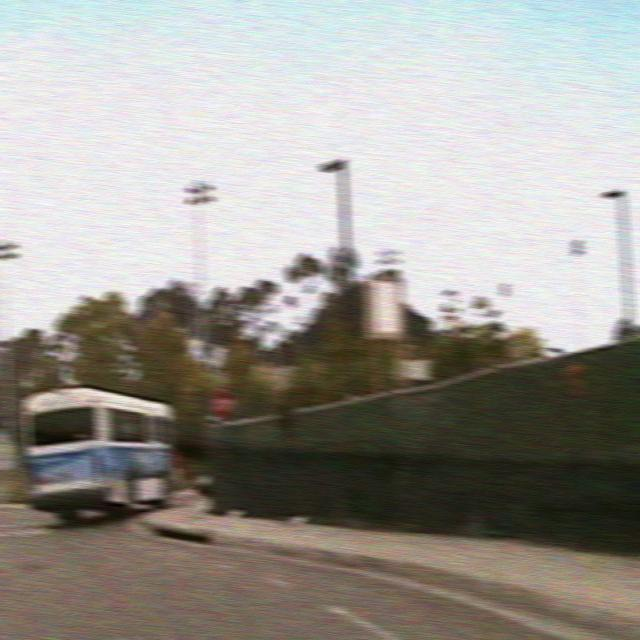stop: (208, 386, 235, 422)
